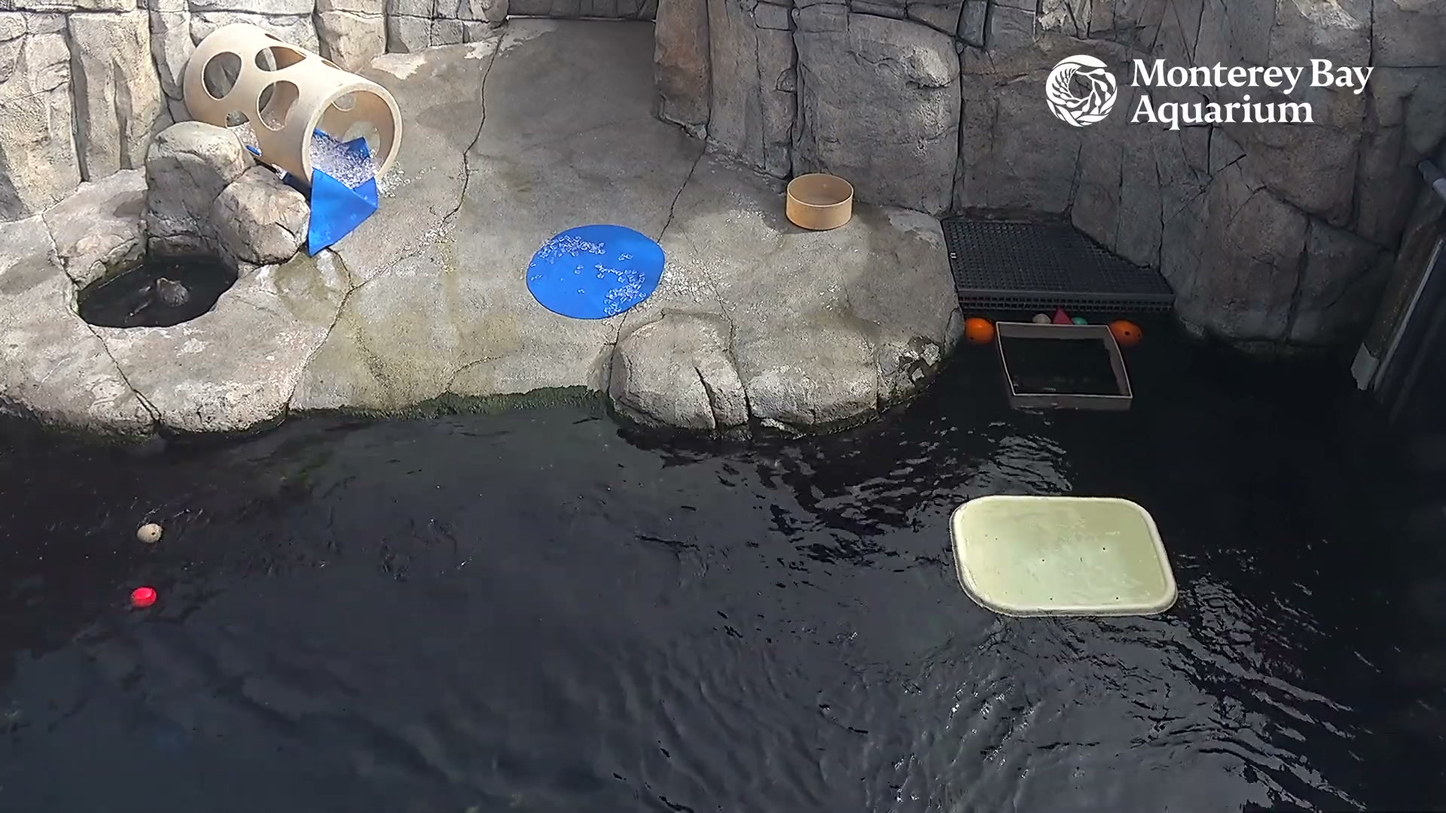Southern Sea Otter: (126, 273, 202, 321)
